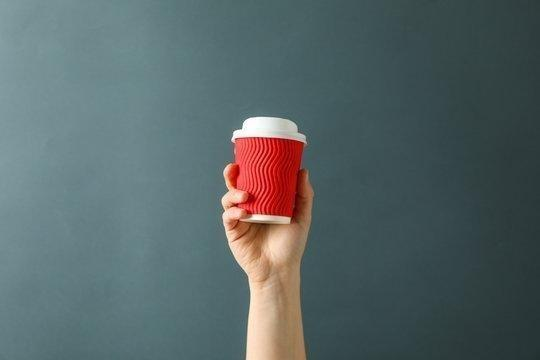cup-disposable: (229, 114, 308, 229)
